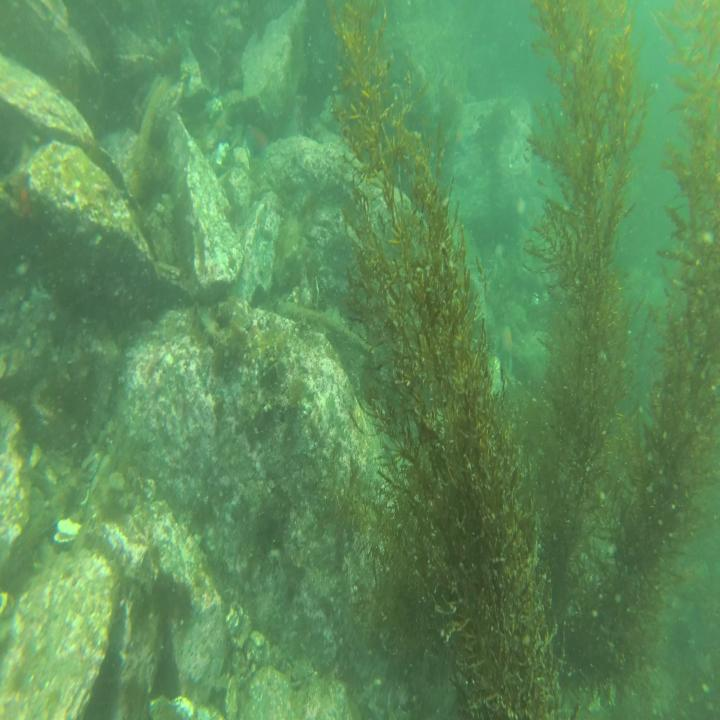scallop: (52, 513, 82, 548)
starfish: (497, 320, 517, 379)
